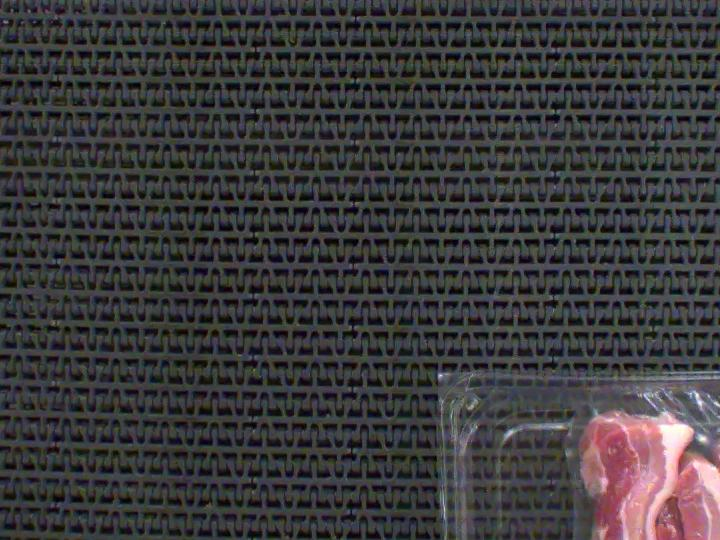unsealed: (548, 382, 720, 540)
